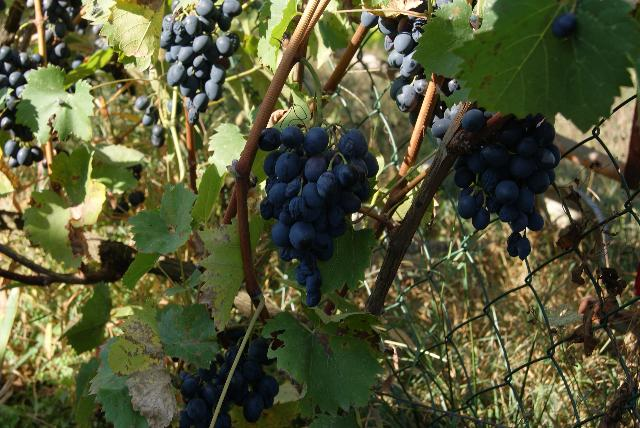grapes: (258, 125, 379, 308), (452, 114, 560, 259), (160, 0, 242, 125), (215, 338, 280, 428), (0, 45, 44, 168), (180, 344, 240, 428)
